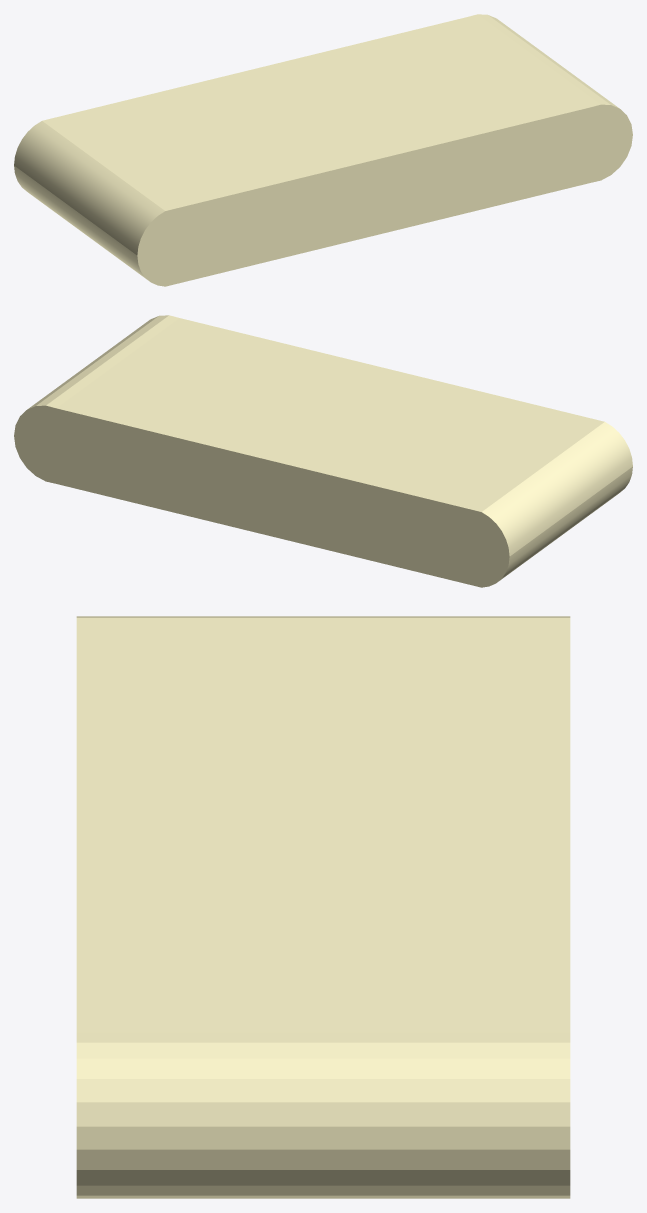
The model's file is original-9.obj.
The picture shows the model from 3 angles, top to bottom: view 1: azimuth 30°, elevation 25°; view 2: azimuth 150°, elevation 25°; view 3: azimuth 270°, elevation 25°; orthographic projection. The views are drawn at different scales.
Parts seen in each view (by area): view 1: Group6/mesh16/mesh16-geometry#mesh16-geometry; view 2: Group6/mesh16/mesh16-geometry#mesh16-geometry; view 3: Group6/mesh16/mesh16-geometry#mesh16-geometry.
Boxes of the visible parts, x1,y1,x2,y2 form: Group6/mesh16/mesh16-geometry#mesh16-geometry: (14, 14, 632, 286); Group6/mesh16/mesh16-geometry#mesh16-geometry: (14, 315, 632, 587); Group6/mesh16/mesh16-geometry#mesh16-geometry: (76, 616, 570, 1198).
Bounding box in the file's own units: 0.14 × 0.0205 × 0.0604.
